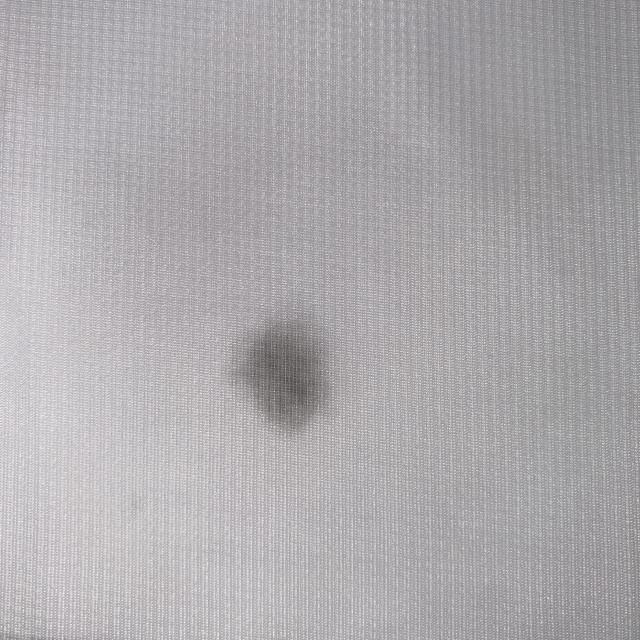Stain: (236, 322, 327, 429)
